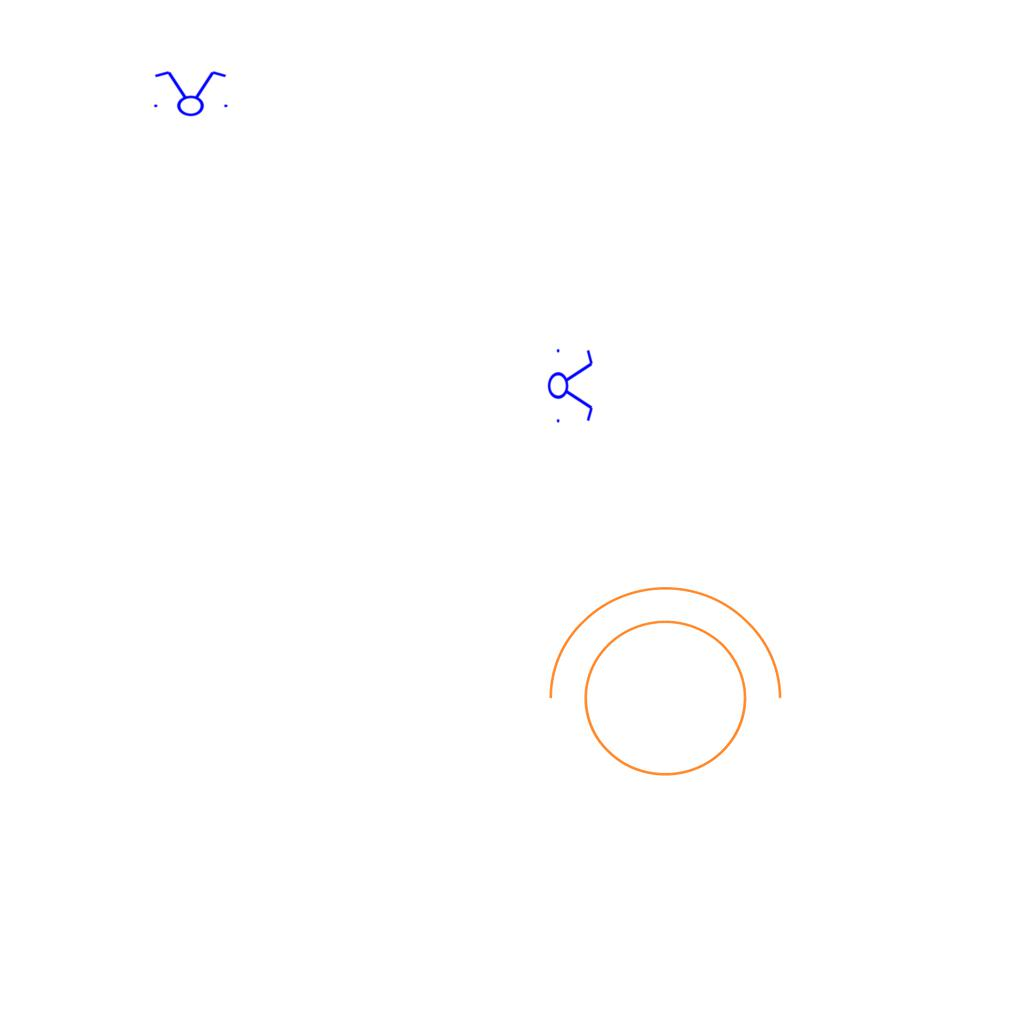Scheinwerfer_fuer_Alarmbeleuchtung: (527, 576, 791, 801)
Serienschalter: (547, 343, 595, 427), (148, 69, 232, 117)
